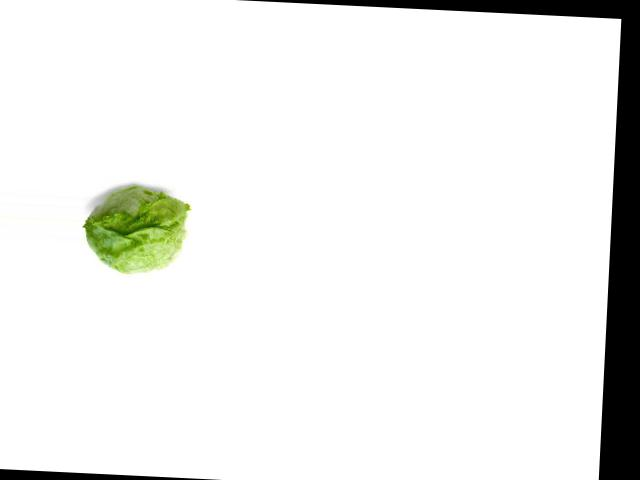lettuce: (82, 178, 189, 283)
